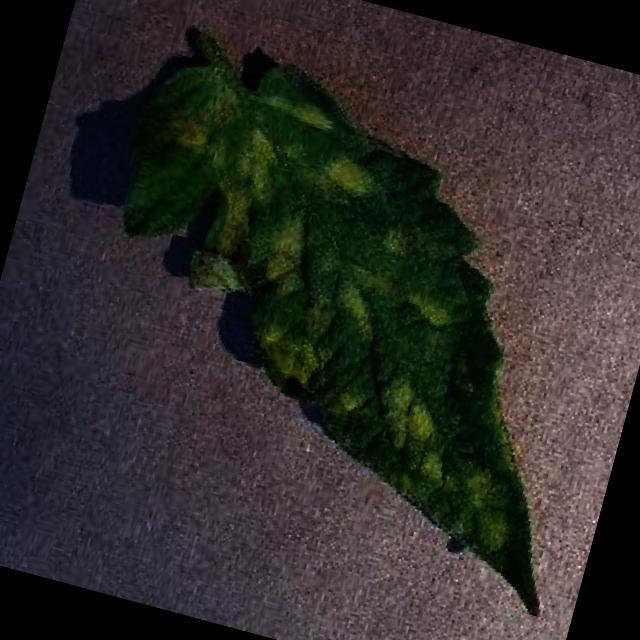Tomato mold leaf: (36, 33, 640, 612)
